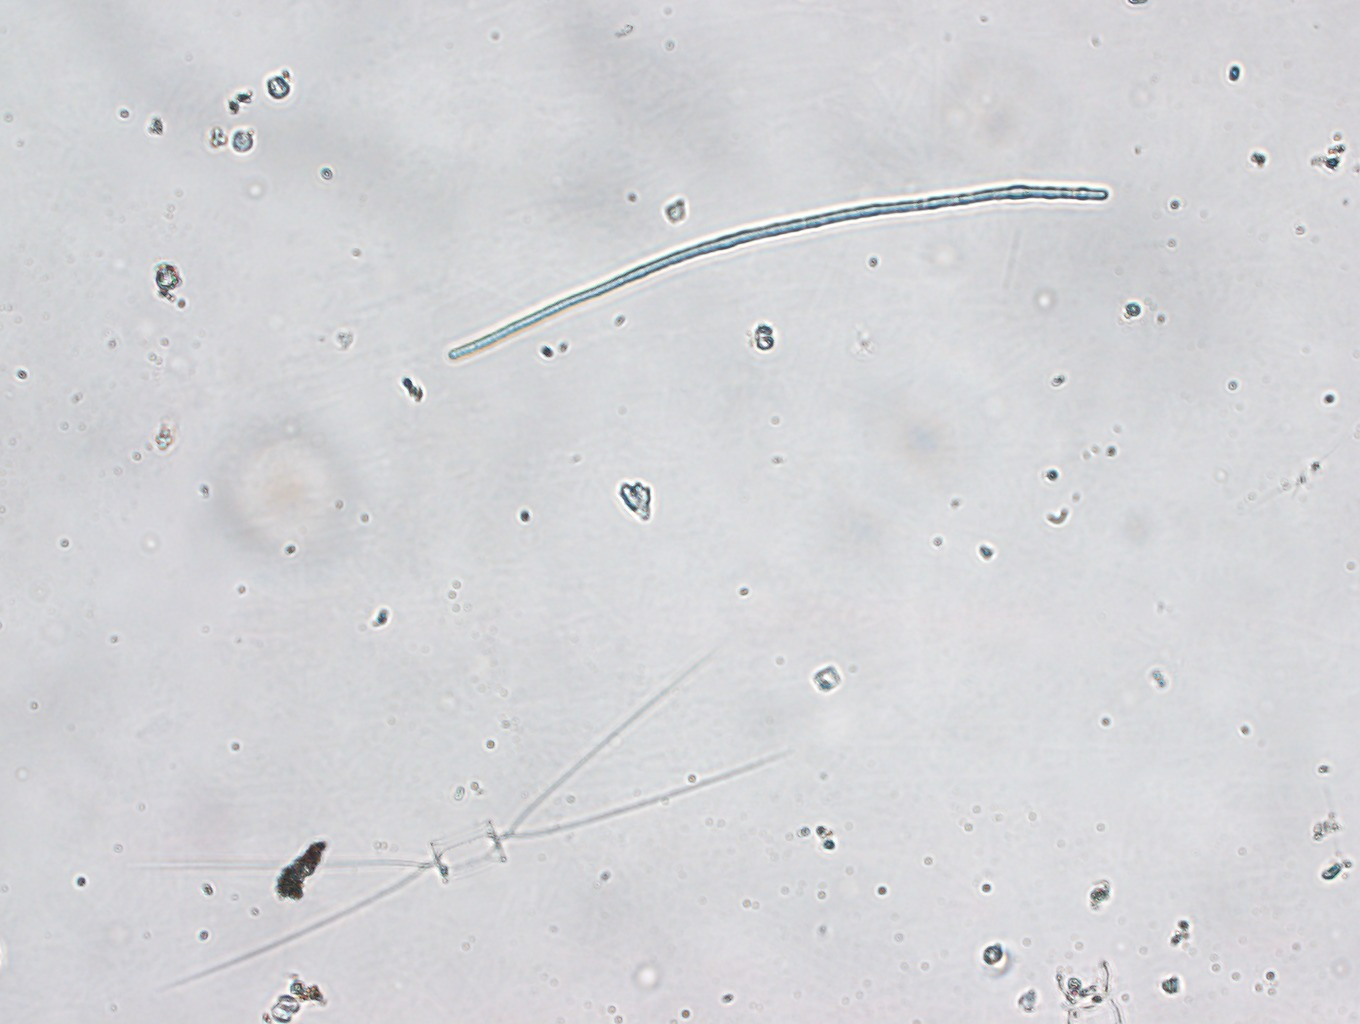chaetoceros: (162, 653, 799, 996)
